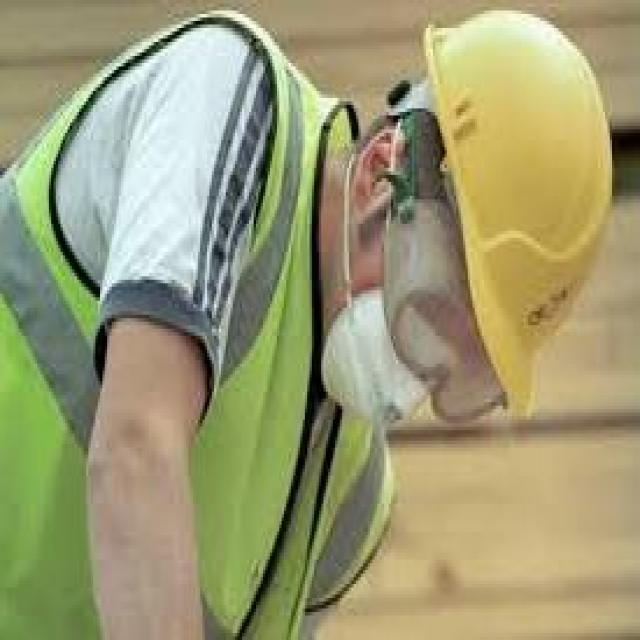Reflective-Jacket: (1, 1, 398, 637)
Safety-Helmet: (415, 3, 633, 428)
